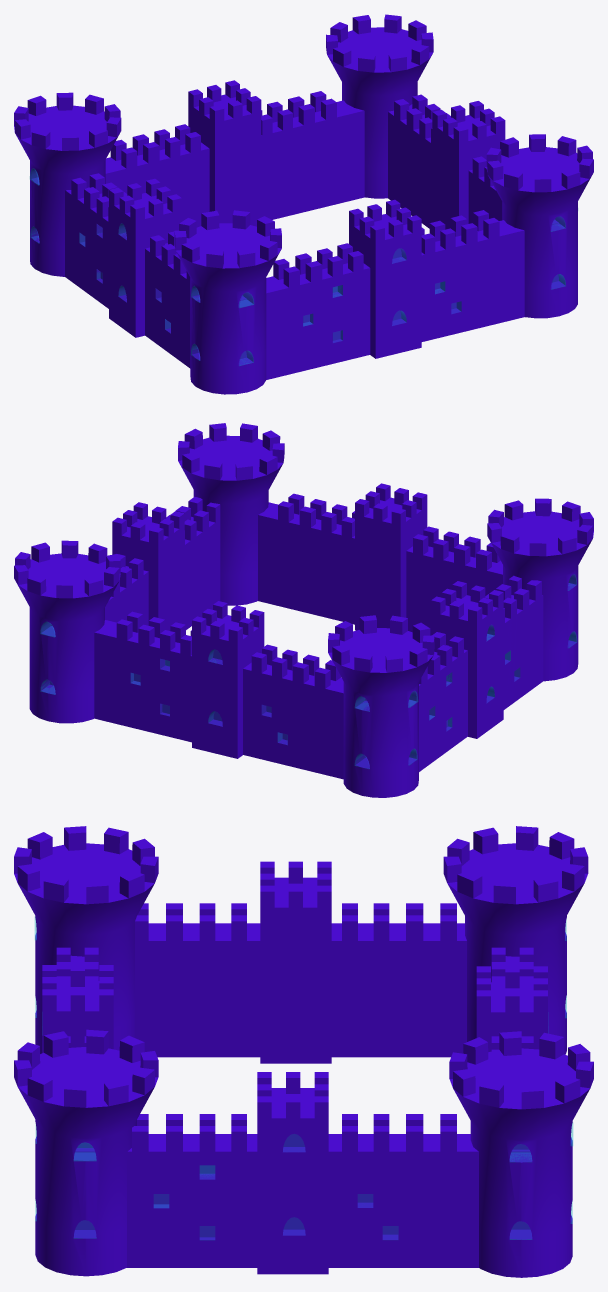
File: Castle.fbx
3 views of the same model, one above another, from view 1: azimuth 30°, elevation 25°; view 2: azimuth 150°, elevation 25°; view 3: azimuth 270°, elevation 25° (orthographic). The views are drawn at different scales.
Parts seen in each view (by area): view 1: pCube43; view 2: pCube43; view 3: pCube43.
Boxes of the visible parts, x1=… form: pCube43: x1=14, y1=14, x2=593, y2=394; pCube43: x1=14, y1=423, x2=593, y2=797; pCube43: x1=14, y1=826, x2=593, y2=1277.
Bounding box in the file's own units: 32.35 × 11.05 × 29.78.
